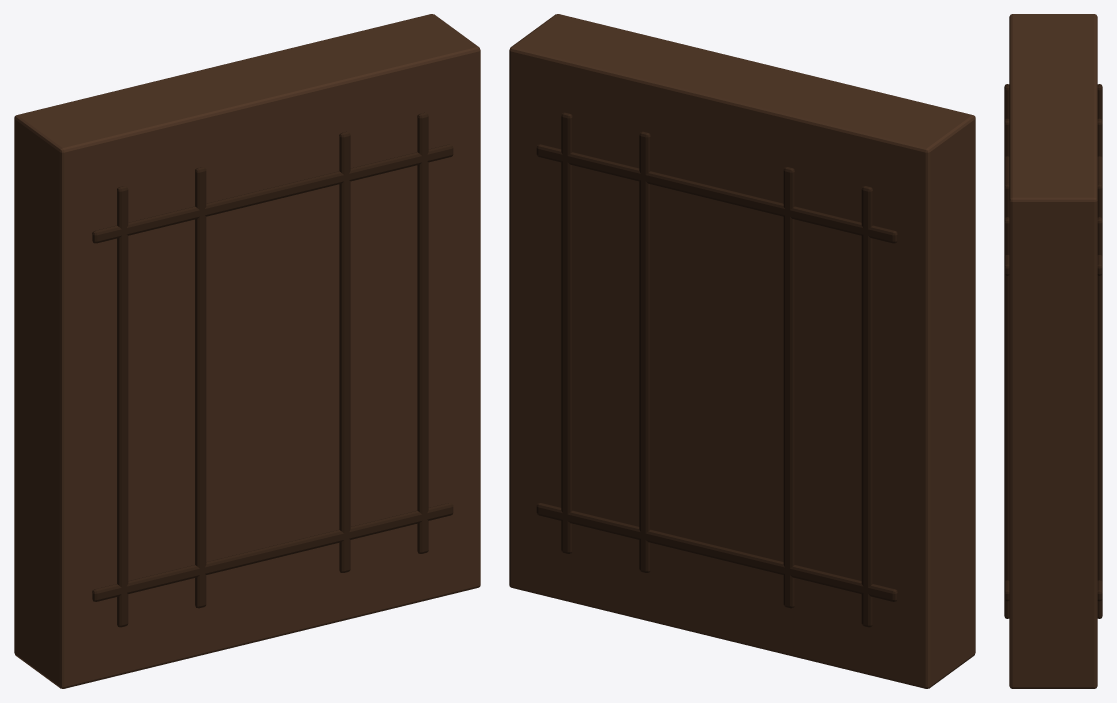
File: door.glb
The picture shows the model from 3 angles, left to right: view 1: azimuth 30°, elevation 25°; view 2: azimuth 150°, elevation 25°; view 3: azimuth 270°, elevation 25°; orthographic projection. The views are drawn at different scales.
Visible parts, largest first — view 1: Door; view 2: Door; view 3: Door.
Part boxes in pixels (bbox=[...]): Door: bbox=[14, 14, 480, 688]; Door: bbox=[509, 14, 975, 688]; Door: bbox=[1004, 14, 1102, 688].
Size of the model in its own units: 0.7 by 0.86 by 0.156.
